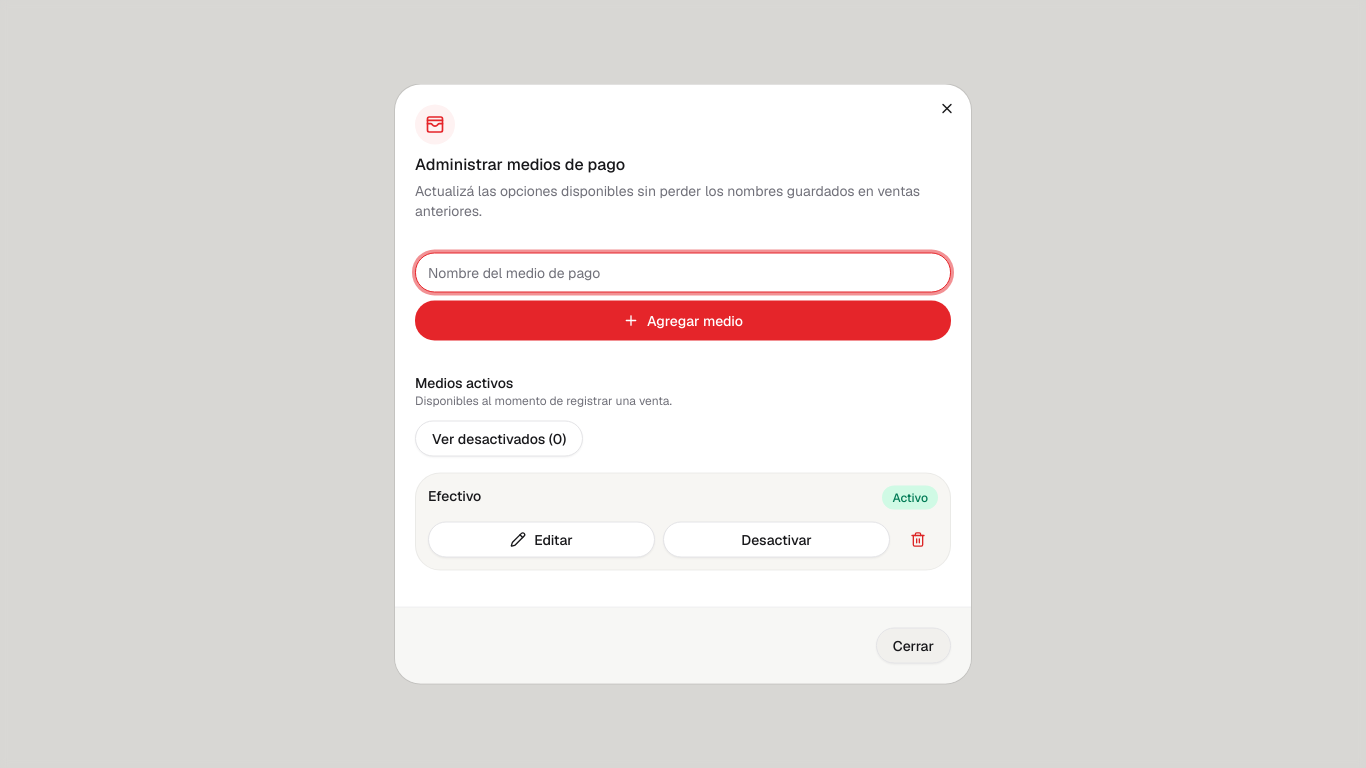
Test: keeps the last-active conflict visible
The image size is (1366, 768).
Click the button with aria-label "Desactivar Efectivo".
click(776, 540)  # box top-left (663, 522), bottom-right (890, 558)
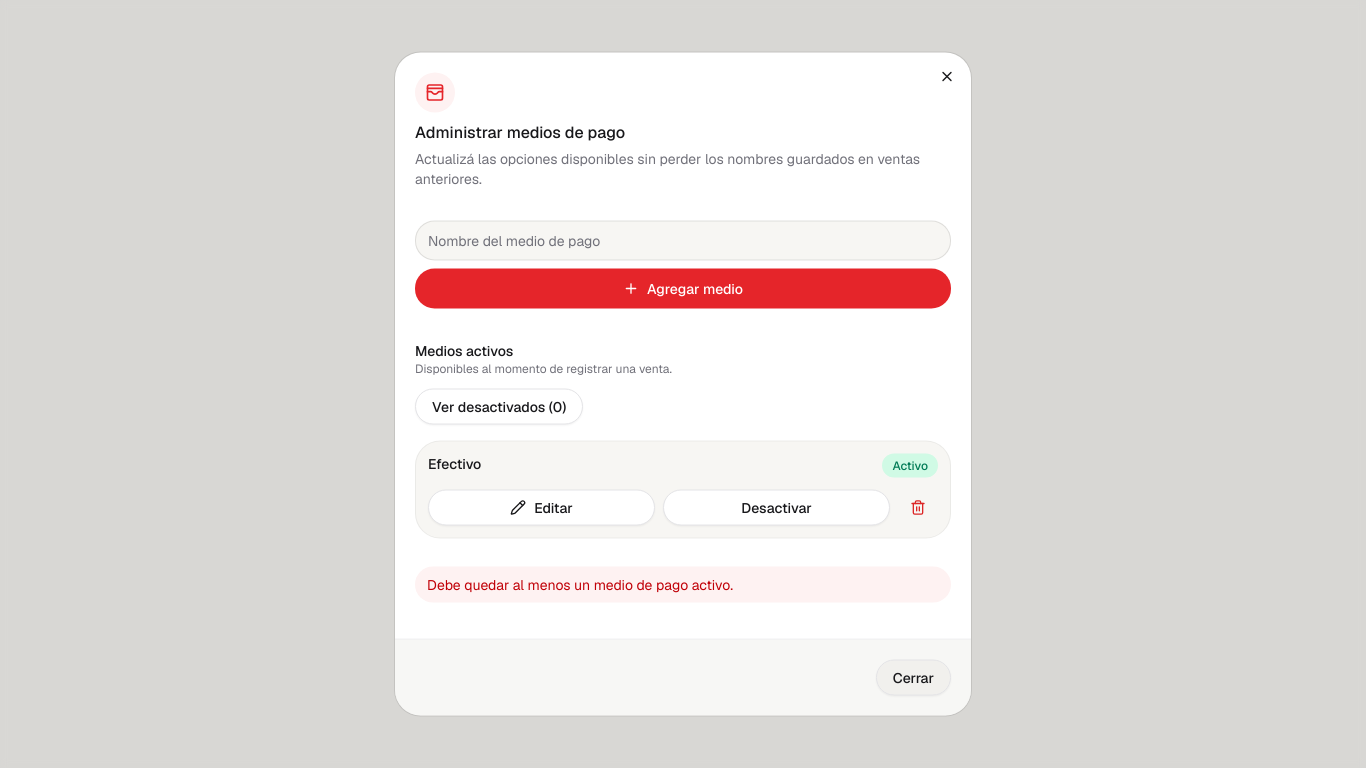
Check: the message reads "Debe quedar al menos un medio de pago activo.", box top-left (427, 576), bottom-right (733, 594)
